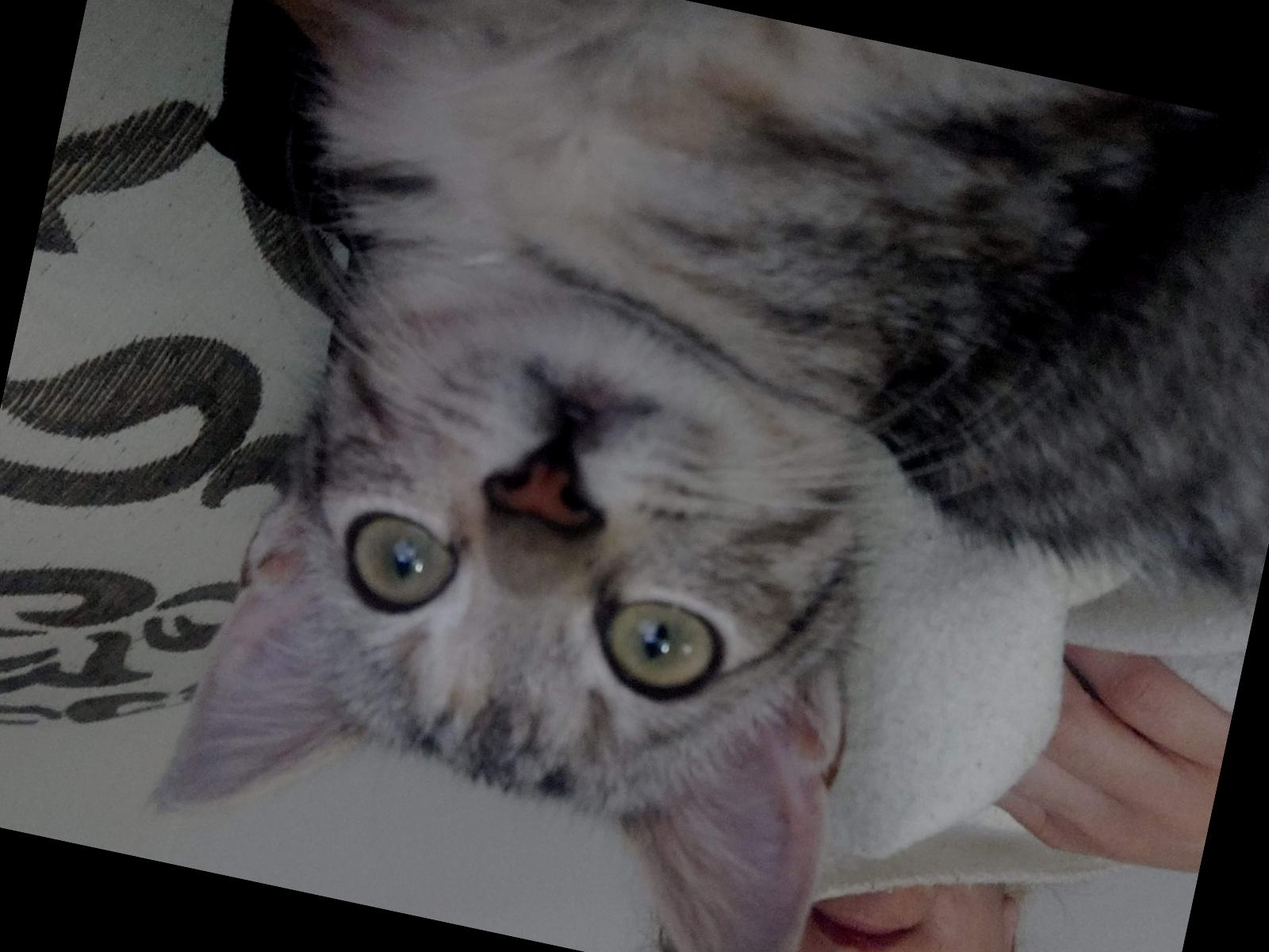macka: (136, 0, 1269, 952)
